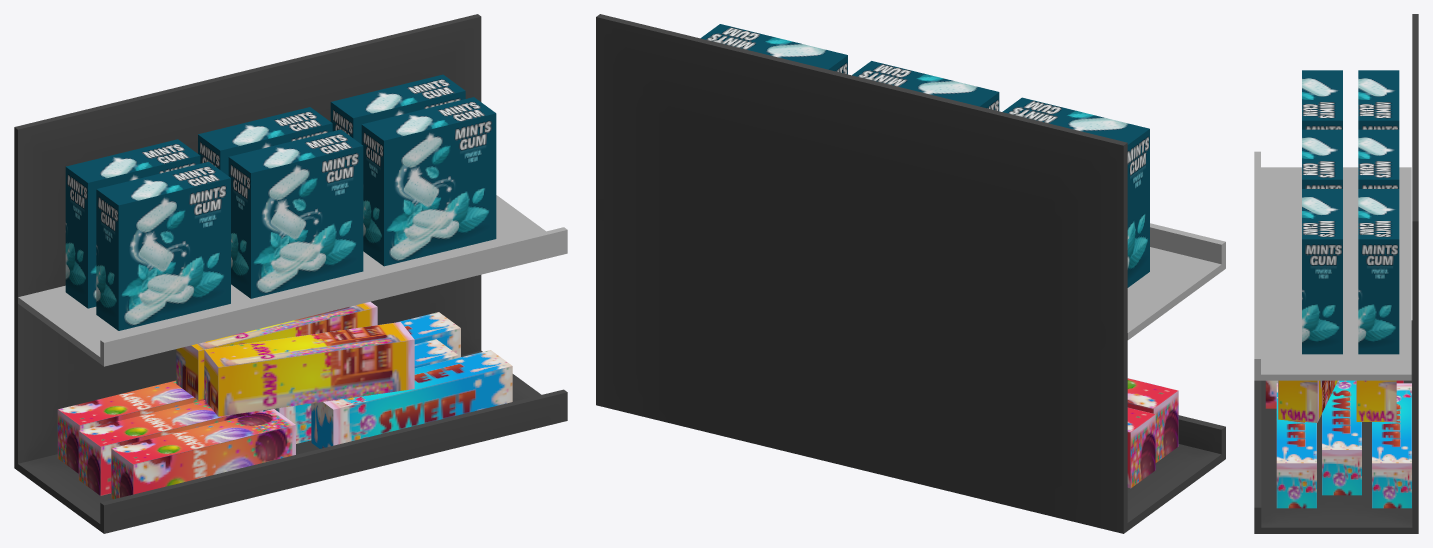
Rendered from MintStandA.fbx.
3 renders of one model, left to right at view 1: azimuth 30°, elevation 25°; view 2: azimuth 150°, elevation 25°; view 3: azimuth 270°, elevation 25°, orthographic. The views are drawn at different scales.
Parts seen in each view (by area): view 1: MintStandA; view 2: MintStandA; view 3: MintStandA.
Boxes of the visible parts, x1,y1,x2,y2 form: MintStandA: [14, 14, 567, 533]; MintStandA: [596, 14, 1225, 533]; MintStandA: [1254, 14, 1418, 533].
Bounding box in the file's own units: 38.58 × 27.13 × 12.94.
